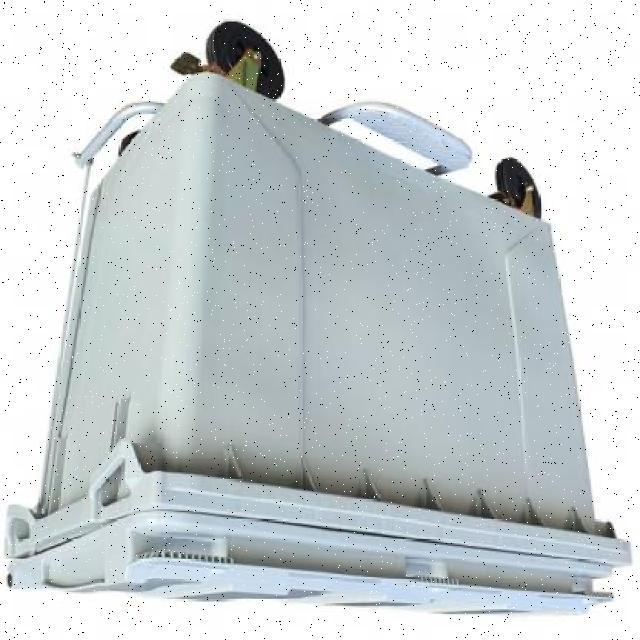garbage container: (4, 2, 640, 627)
